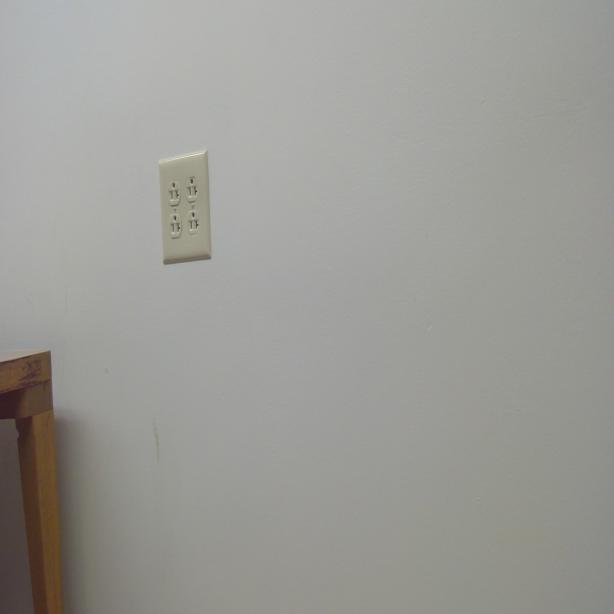typeb: (184, 174, 200, 203), (186, 210, 202, 235), (167, 180, 182, 204), (170, 216, 183, 237)
